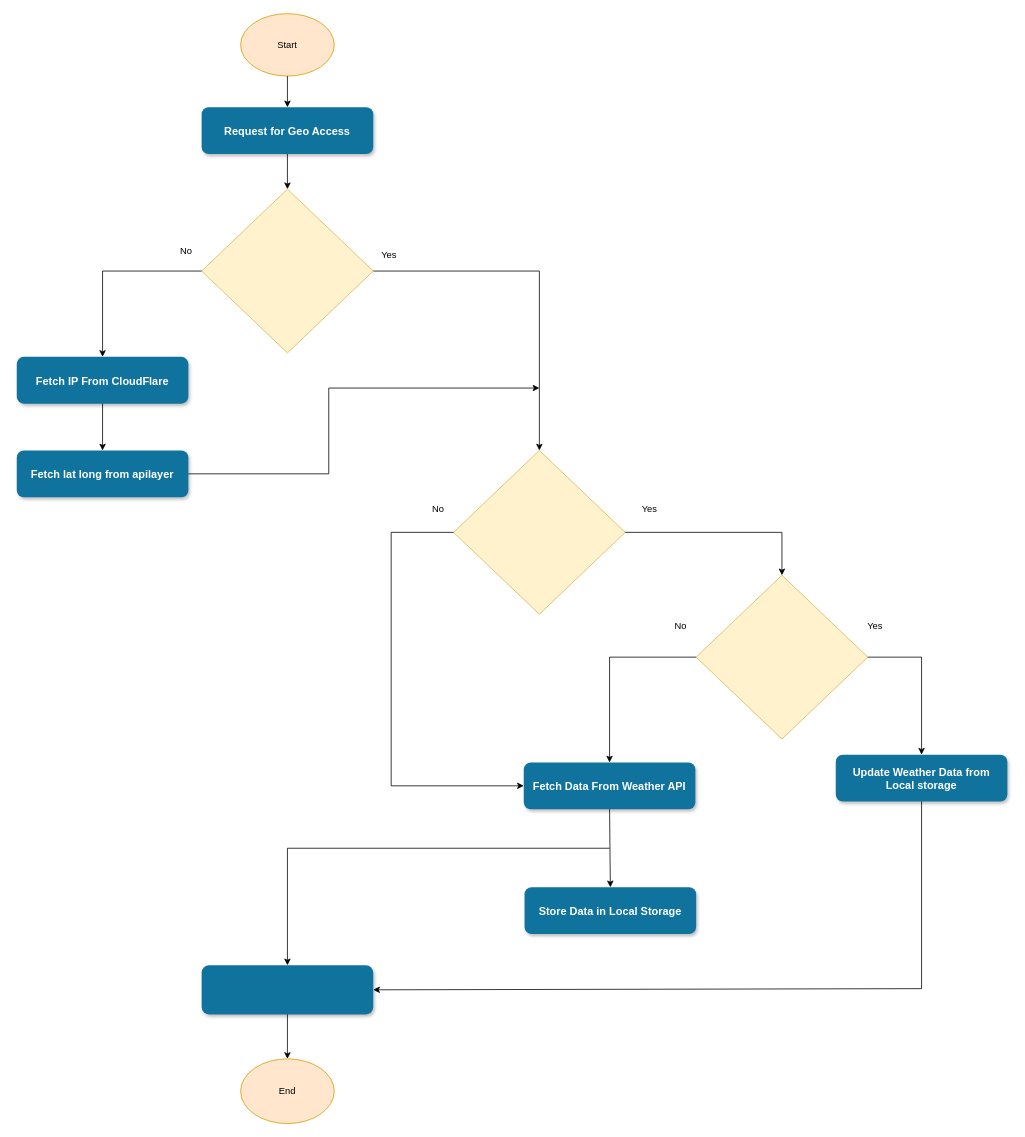
Image size: 1025x1137. Some labels were removed from this diagram. Here are the shapes that lost their labels. From the top down, the centre of each, then its label:
At point (287, 270): "Is Access Granted ?".
At point (539, 532): "Is Previous Data available in Local Storage ?".
At point (781, 656): "Is Coordinate same AND is Last fetched data less than 30 minutes ?".
At point (288, 990): "Show Weather Data".
